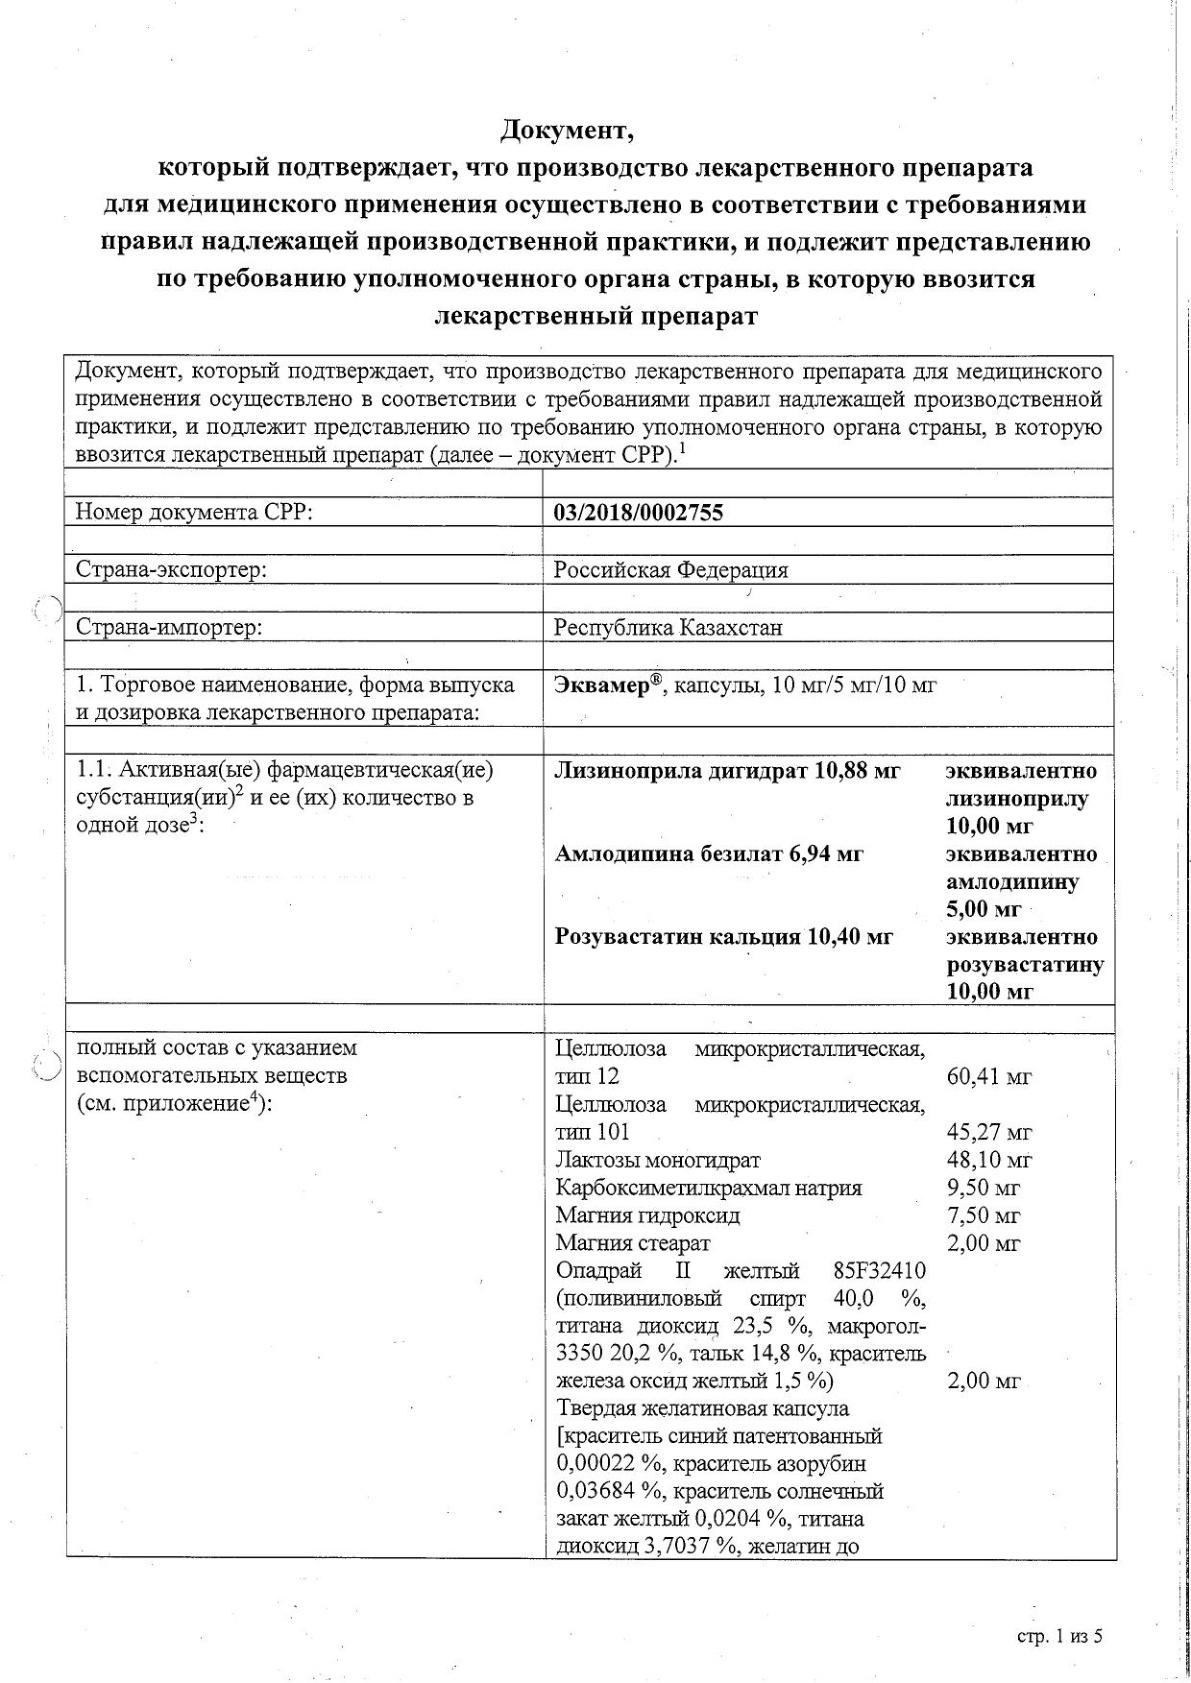merged_cells: (61, 353, 1118, 1562)
